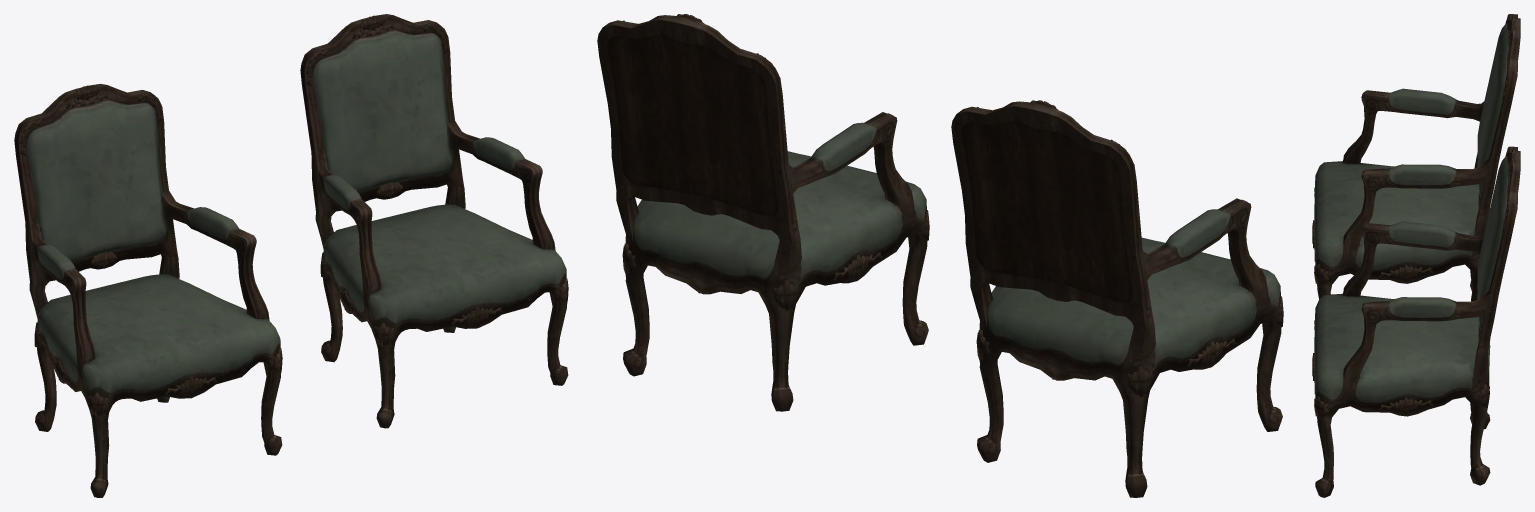
The model's file is fireside_wing_chairs.glb.
3 views of the same model, side by side, from view 1: azimuth 30°, elevation 25°; view 2: azimuth 150°, elevation 25°; view 3: azimuth 270°, elevation 25° (orthographic). The views are drawn at different scales.
Visible parts, largest first — view 1: GreenChair_01; view 2: GreenChair_01; view 3: GreenChair_01.
Boxes of the visible parts, left/top/right/bottom form: GreenChair_01: left=14, top=14, right=568, bottom=497; GreenChair_01: left=597, top=14, right=1283, bottom=497; GreenChair_01: left=1312, top=14, right=1520, bottom=497.
Size of the model in its own units: 1.67 by 1.06 by 0.6644.
Materials: 1 (1 with a texture image).
